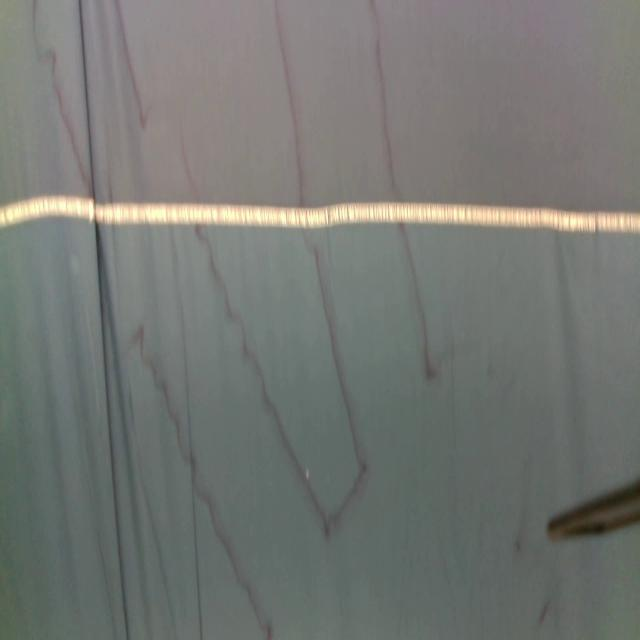crease: (78, 0, 129, 640), (178, 274, 203, 640)
